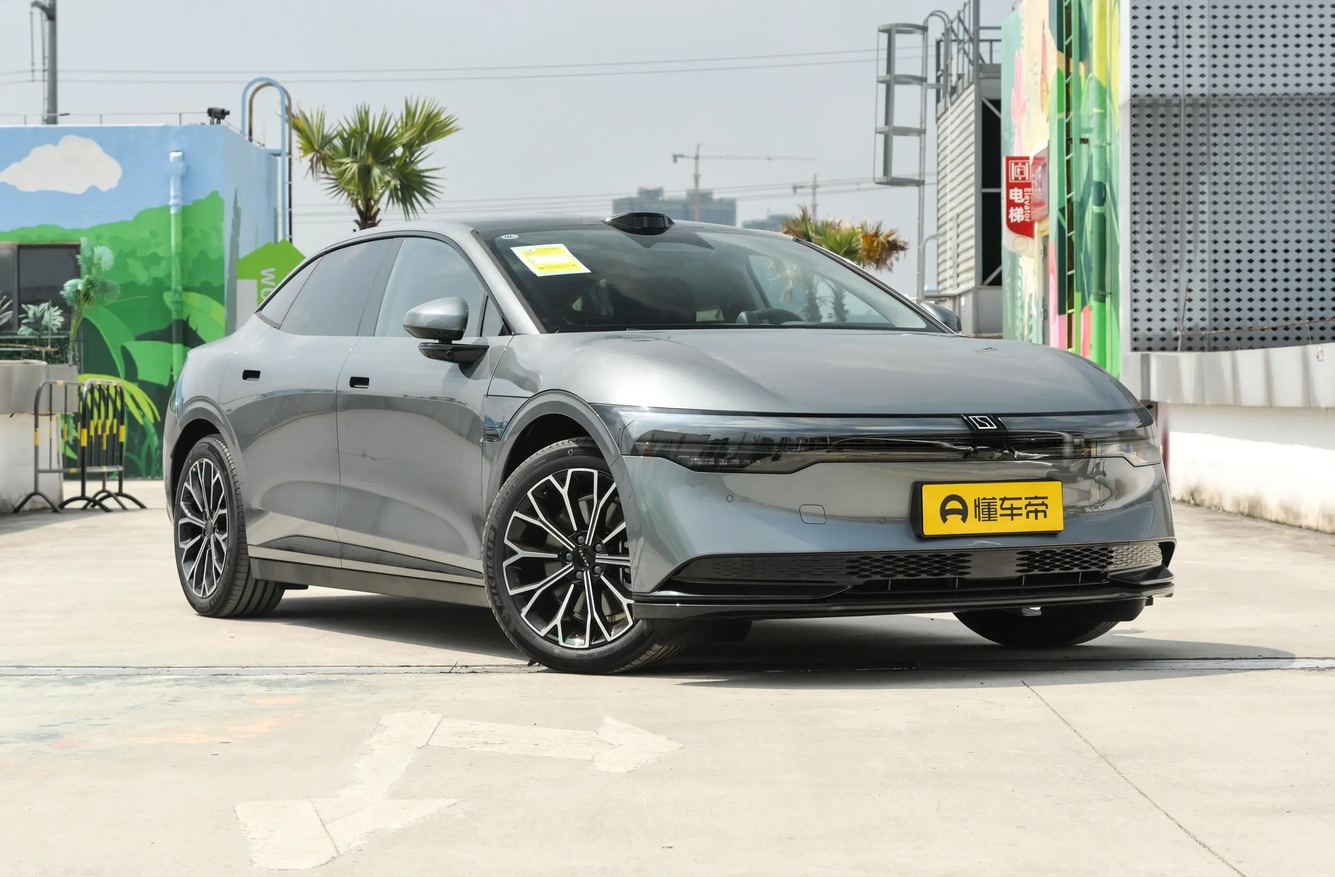ZEEKR: (969, 416, 996, 428)
